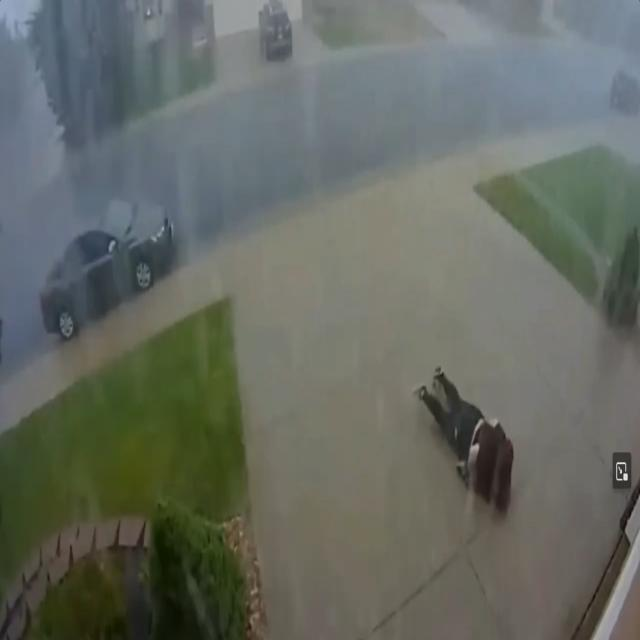fallen: (415, 367, 513, 510)
